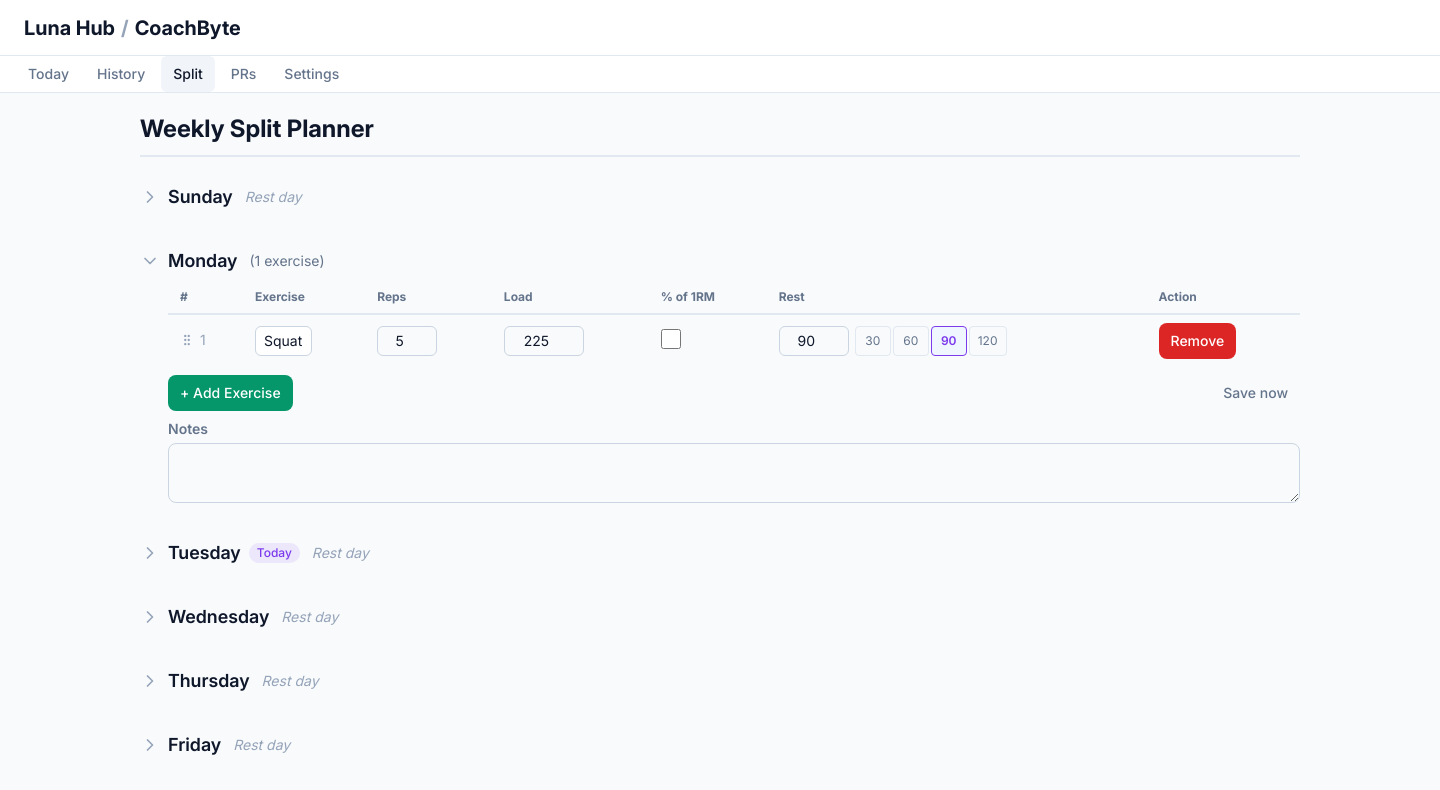
SplitPage — Today badge + passive hint (FLAG F5) › renders the passive hint banner explaining the propagation rule
The image size is (1440, 790).
Click the button with test id "day-2-toggle".
click(204, 552)  # box [140,533,1300,573]
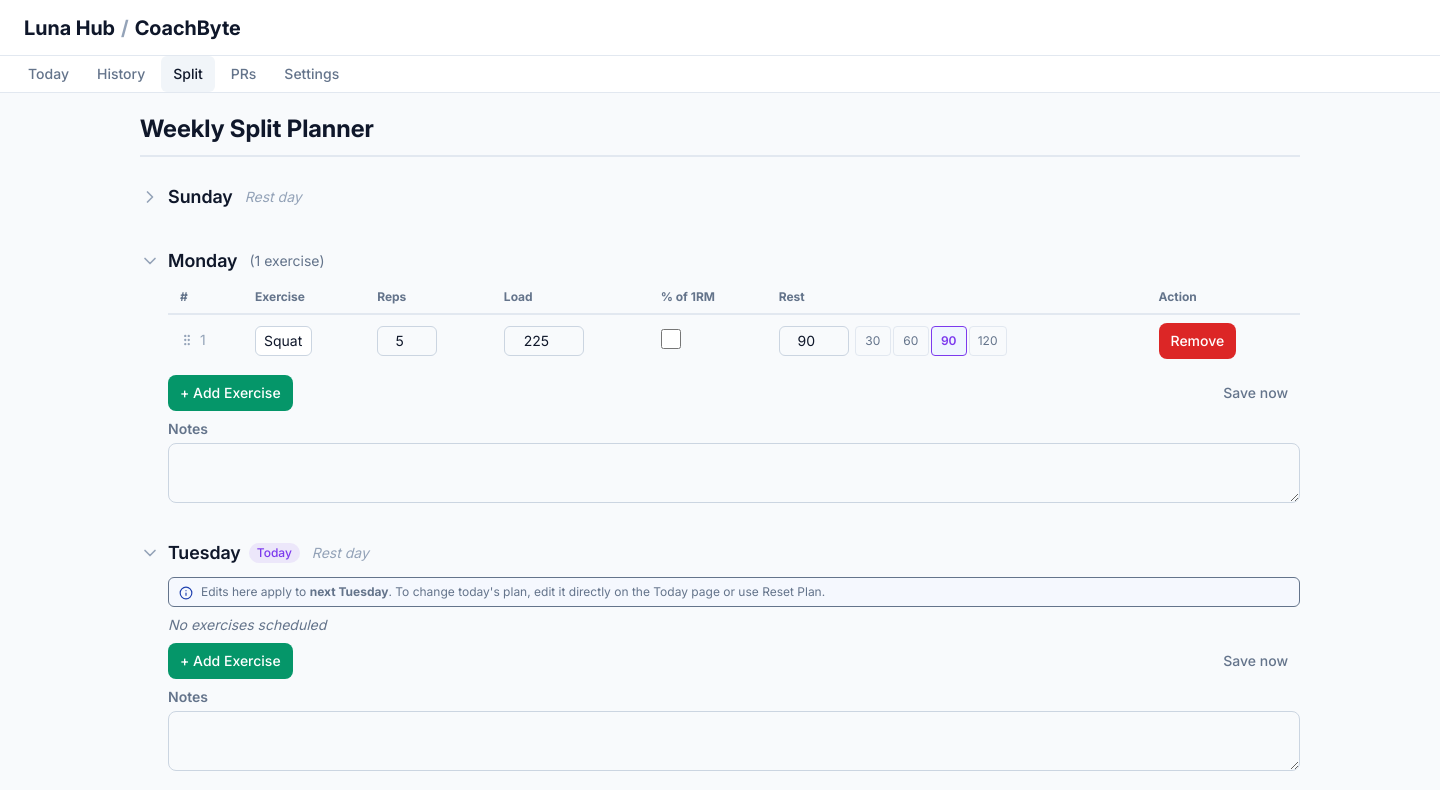
Now the element with test id "day-2-today-hint" shows "next Tuesday", box [168,577,1300,607]
